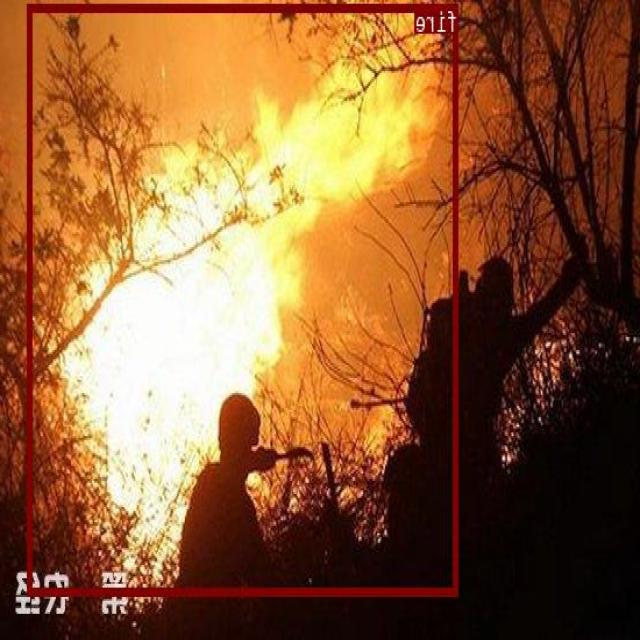fire: (29, 3, 458, 593)
